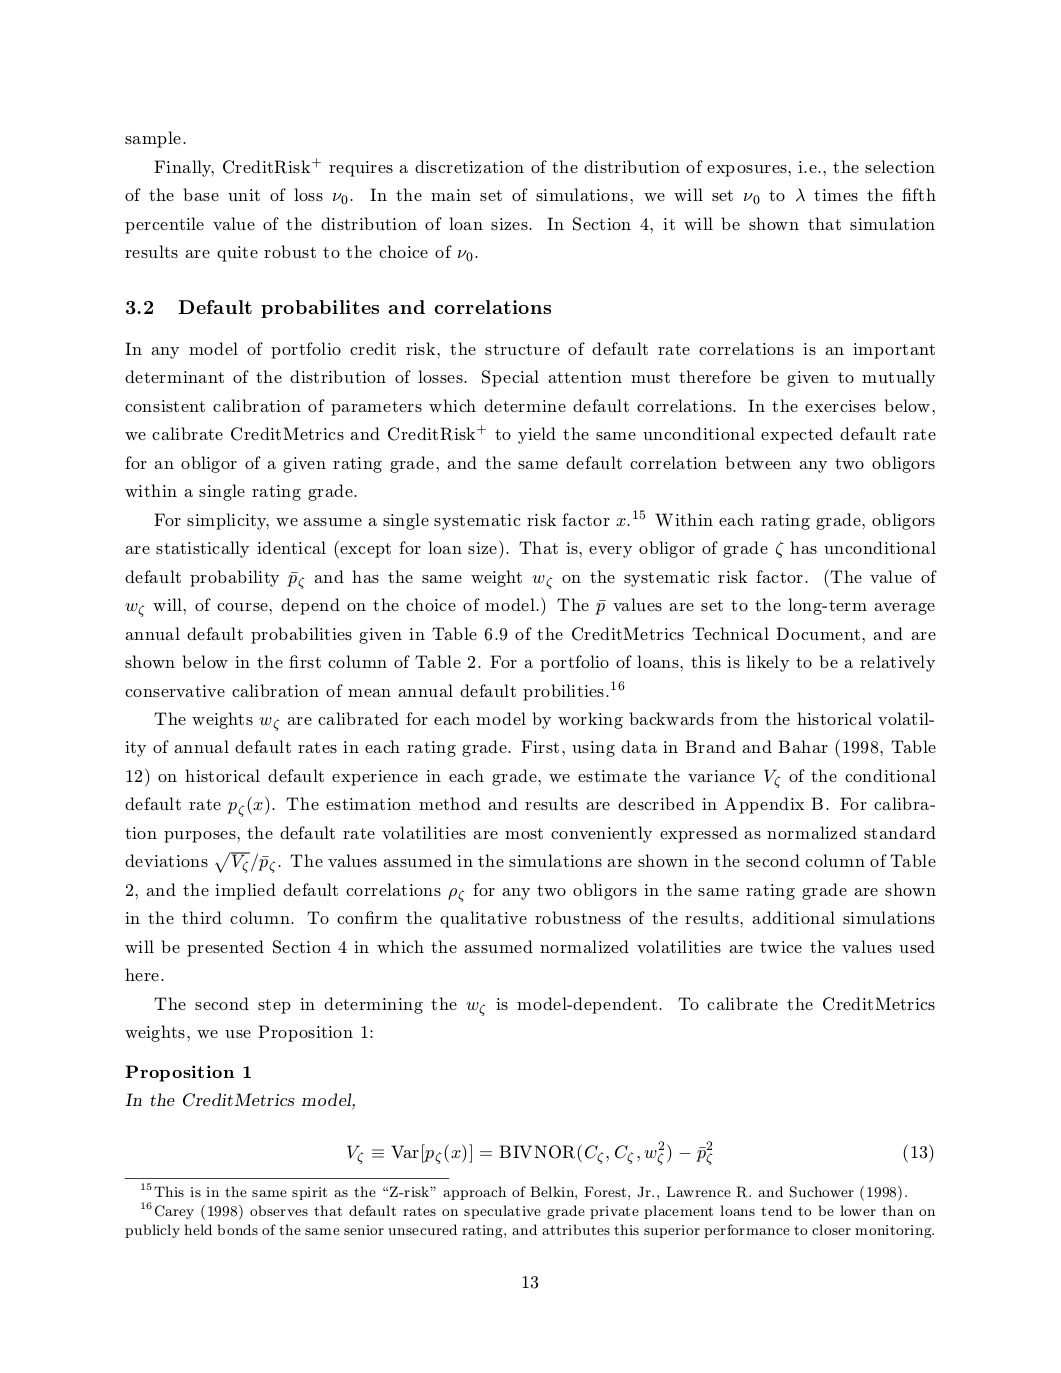formula: (347, 1140, 933, 1165)
